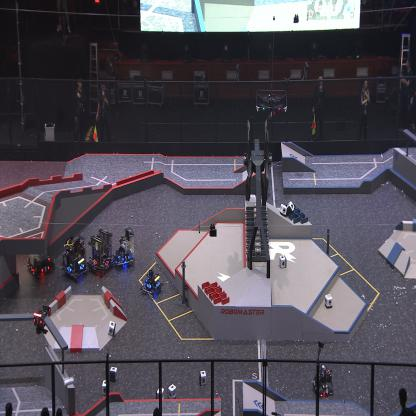car: (61, 234, 91, 281), (88, 226, 113, 277), (27, 232, 54, 278), (111, 226, 134, 271), (312, 363, 334, 397), (140, 267, 163, 298)
